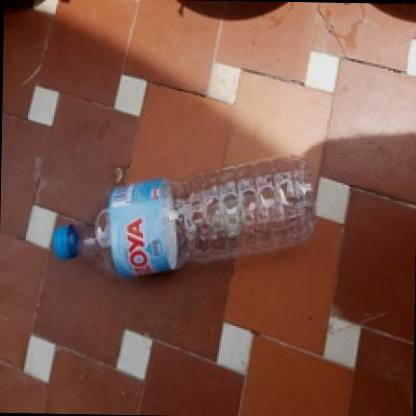plastic_bottles: (47, 148, 320, 284)
